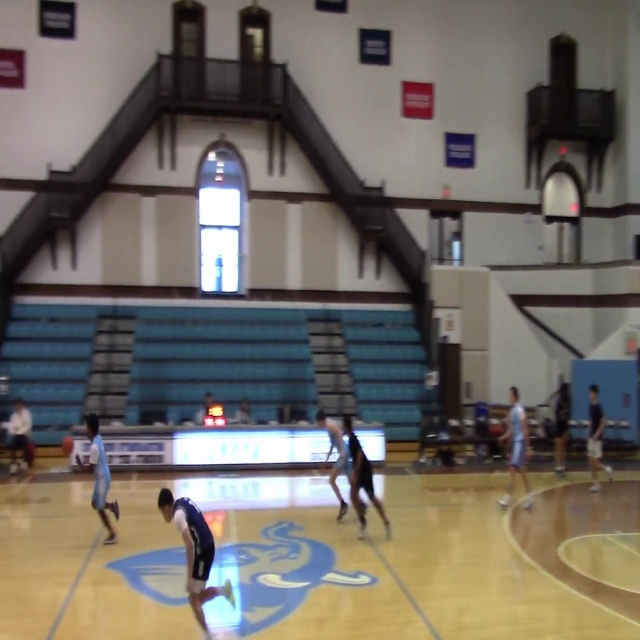Basketball: (62, 436, 74, 456), (488, 421, 504, 436)
